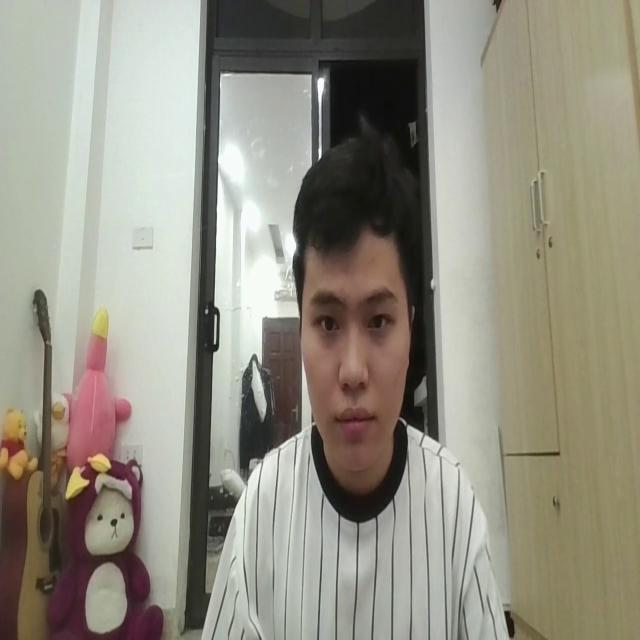student: (214, 126, 508, 640)
